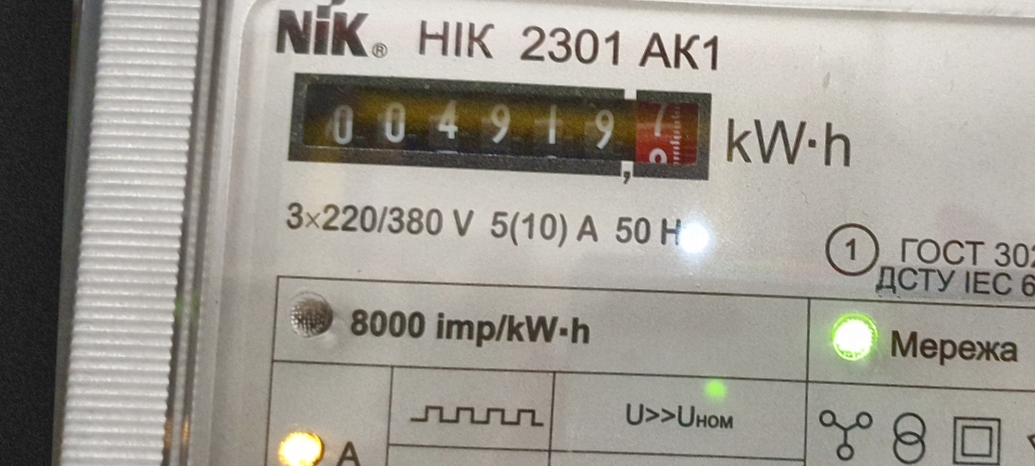0: (380, 98, 408, 144), (329, 101, 355, 145)
1: (543, 100, 560, 147)
4: (434, 96, 460, 140)
7: (644, 99, 669, 139)
9: (590, 105, 616, 153), (487, 101, 512, 146)
screen: (275, 58, 729, 199)
